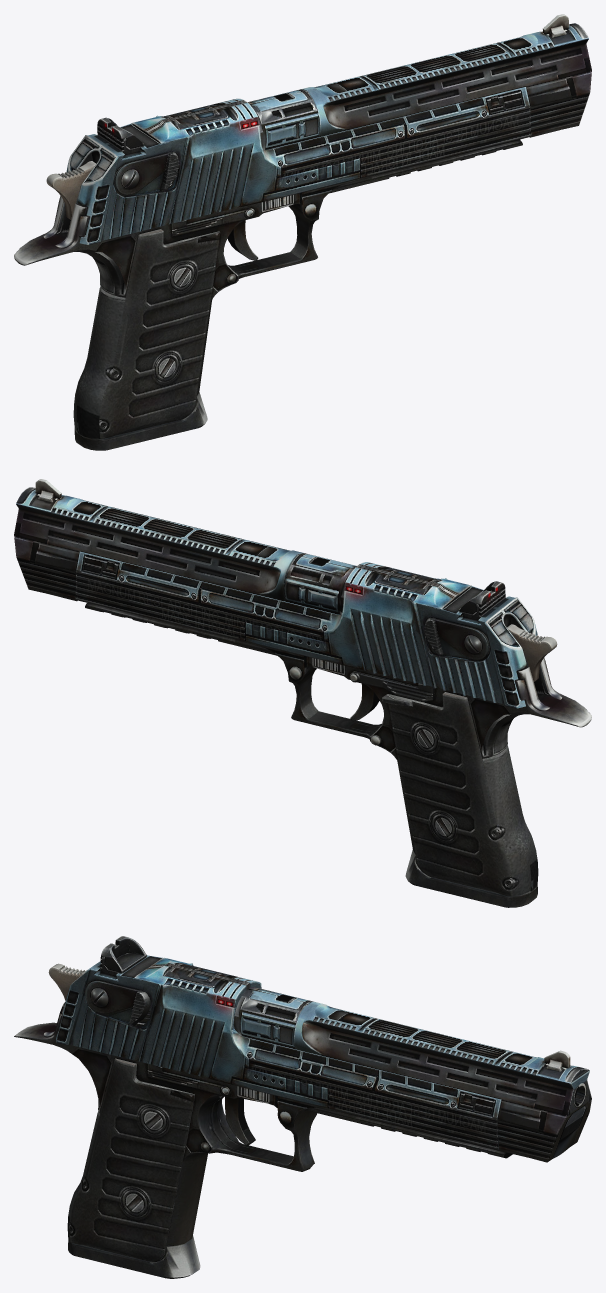
File: w_pistol50_constable.glb
3 views of the same model, one above another, from view 1: azimuth 30°, elevation 25°; view 2: azimuth 150°, elevation 25°; view 3: azimuth 330°, elevation 25° (orthographic).
Visible parts, largest first — view 1: Gun_Root; view 2: Gun_Root; view 3: Gun_Root.
Boxes of the visible parts, box(x1,y1,x2,y2) form: Gun_Root: box(14, 14, 591, 450); Gun_Root: box(14, 479, 591, 907); Gun_Root: box(14, 936, 591, 1278).
Bounding box in the file's own units: 0.2842 × 0.1495 × 0.033.
1 material, 1 textured.
